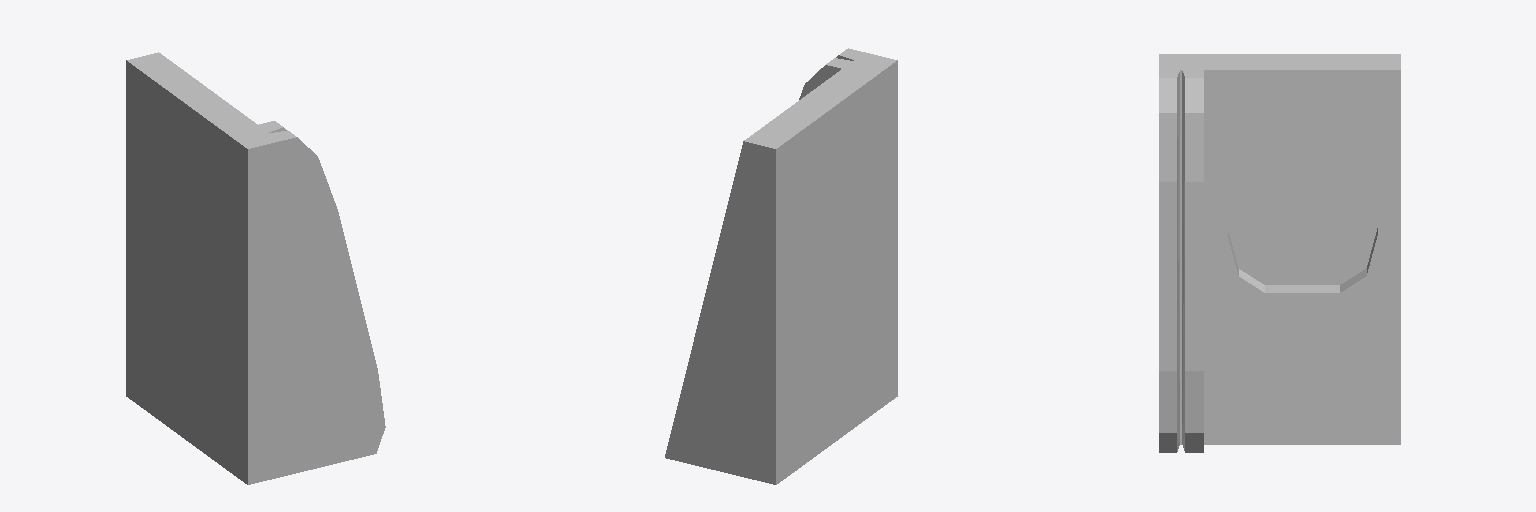
Rendered from cardkey.obj.
The picture shows the model from 3 angles: view 1: azimuth 30°, elevation 25°; view 2: azimuth 150°, elevation 25°; view 3: azimuth 270°, elevation 25°; orthographic projection.
Parts seen in each view (by area): view 1: Cube_Cube.001; view 2: Cube_Cube.001; view 3: Cube_Cube.001.
Part boxes in pixels (bbox=[...]): Cube_Cube.001: bbox=[126, 52, 385, 484]; Cube_Cube.001: bbox=[665, 48, 897, 484]; Cube_Cube.001: bbox=[1159, 54, 1400, 452].
Bounding box in the file's own units: 0.917 × 2.13 × 1.4.